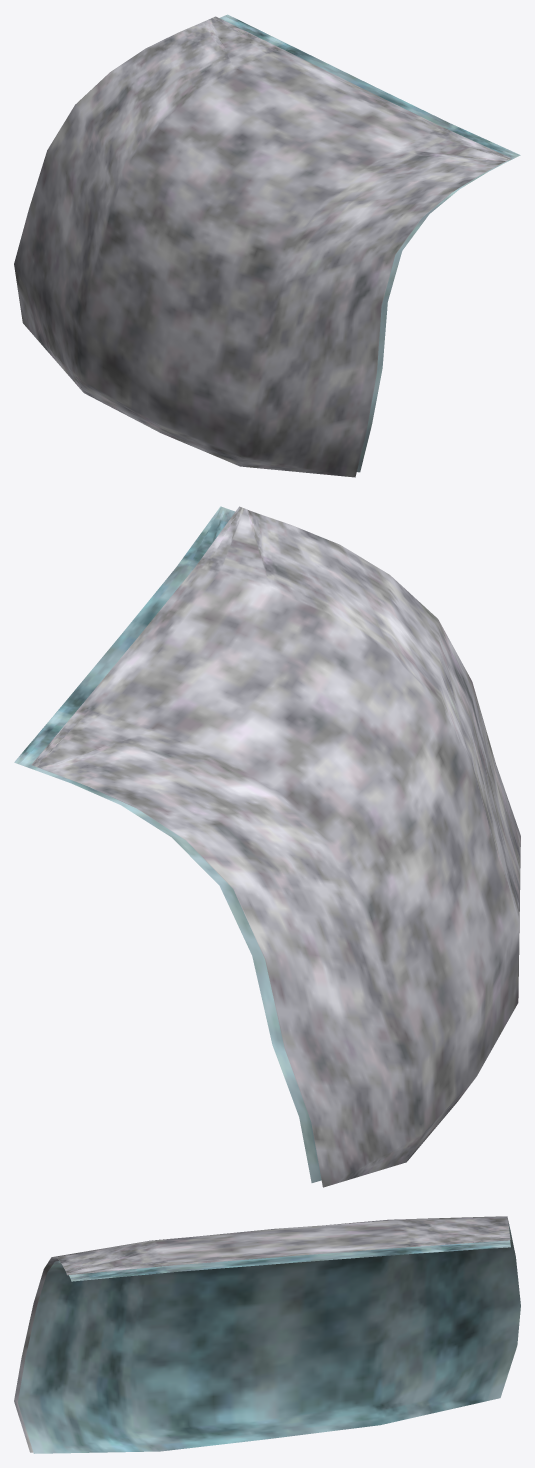
The model's file is CB_NEWPLAYSURFACE_CB_WATERFALLS11.fbx.
The picture shows the model from 3 angles, top to bottom: view 1: azimuth 30°, elevation 25°; view 2: azimuth 150°, elevation 25°; view 3: azimuth 270°, elevation 25°; orthographic projection. The views are drawn at different scales.
Visible parts, largest first — view 1: CB_NEWPLAYSURFACE_CB_WATERFALLS11; view 2: CB_NEWPLAYSURFACE_CB_WATERFALLS11; view 3: CB_NEWPLAYSURFACE_CB_WATERFALLS11.
Boxes of the visible parts, left/top/right/bottom form: CB_NEWPLAYSURFACE_CB_WATERFALLS11: left=14, top=14, right=520, bottom=477; CB_NEWPLAYSURFACE_CB_WATERFALLS11: left=14, top=506, right=520, bottom=1187; CB_NEWPLAYSURFACE_CB_WATERFALLS11: left=14, top=1216, right=520, bottom=1453.
Size of the model in its own units: 58302 by 54747 by 87961.
2 materials, 2 textured.
